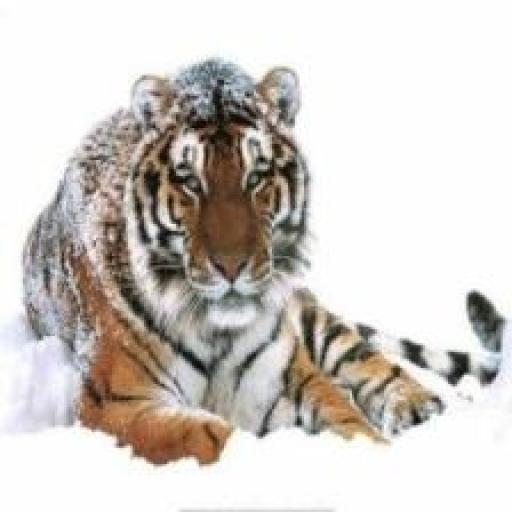Tiger: (24, 58, 508, 468)
